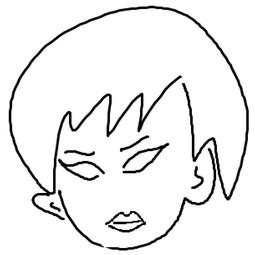cupid_mouth: (104, 210, 150, 238)
ear: (21, 181, 72, 229)
empty_eye: (119, 141, 172, 177), (57, 159, 106, 181)
frowning_eyebrow: (118, 135, 152, 151), (61, 146, 97, 160)
large_ear: (184, 140, 219, 211)
